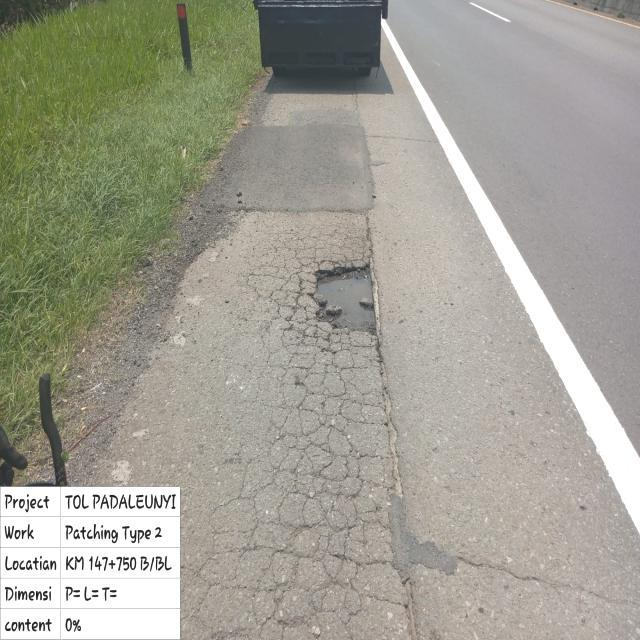Buraco: (304, 260, 381, 340)
